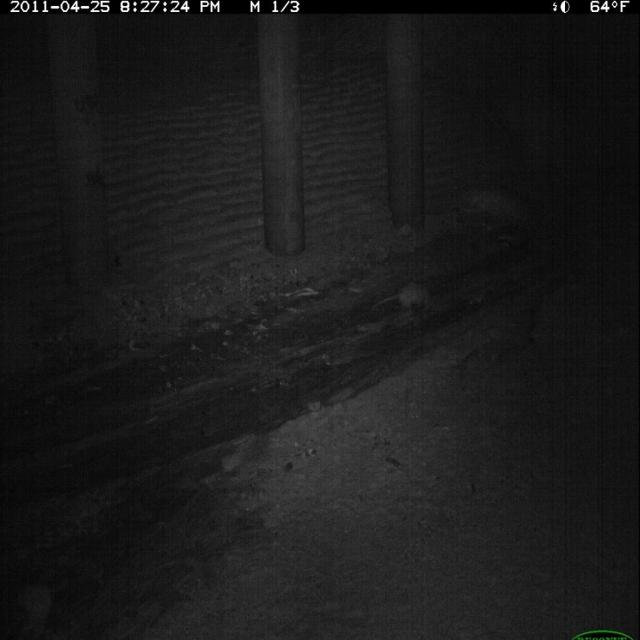opossum: (370, 279, 440, 318)
